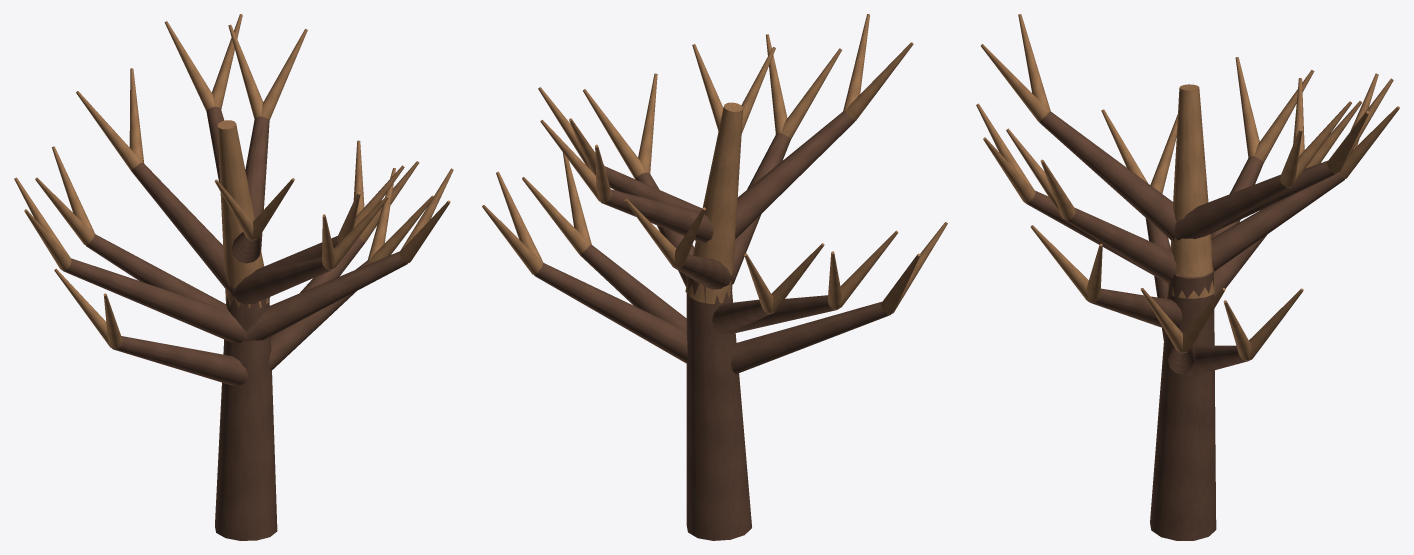
File: DeadTree.glb
The picture shows the model from 3 angles, left to right: view 1: azimuth 30°, elevation 25°; view 2: azimuth 150°, elevation 25°; view 3: azimuth 270°, elevation 25°; orthographic projection. The views are drawn at different scales.
Parts seen in each view (by area): view 1: Trunk, Bough.009, Leader, Bough.005, Bough.004, Bough.006, Bough.001, Bough.002, Bough.003, Bough, Twig.013, Twig.006 (+23 smaller); view 2: Trunk, Leader, Bough.008, Bough.004, Bough.007, Bough, Bough.011, Bough.002, Bough.009, Bough.001, Bough.003, Bough.006 (+23 smaller); view 3: Trunk, Leader, Bough.007, Bough.006, Bough.003, Bough.010, Bough.005, Bough.008, Bough.011, Twig.015, Twig.018, Twig.019 (+24 smaller).
Part boxes in pixels (box(x1,y1,x2,y2)): Trunk: box(215, 296, 277, 540); Bough.009: box(63, 258, 247, 342); Leader: box(217, 120, 269, 308); Bough.005: box(245, 251, 407, 341); Bough.004: box(112, 336, 248, 386); Bough.006: box(131, 162, 235, 299); Bough.001: box(86, 234, 228, 310); Bough.002: box(233, 257, 333, 304); Bough.003: box(245, 116, 269, 249); Bough: box(269, 260, 371, 369); Twig.013: box(76, 91, 140, 170); Twig.006: box(261, 29, 307, 119); Trunk: box(686, 276, 751, 540); Leader: box(685, 102, 743, 303); Bough.008: box(534, 263, 687, 363); Bough.004: box(730, 301, 890, 374); Bough.007: box(735, 111, 854, 238); Bough: box(580, 244, 686, 331); Bough.011: box(601, 189, 713, 242); Bough.002: box(733, 133, 790, 283); Bough.009: box(728, 295, 839, 333); Bough.001: box(712, 299, 774, 333); Bough.003: box(605, 166, 702, 211); Bough.006: box(673, 255, 734, 289); Trunk: box(1150, 268, 1216, 540); Leader: box(1168, 84, 1215, 298); Bough.007: box(1039, 111, 1176, 240); Bough.006: box(1211, 173, 1344, 271); Bough.003: box(1173, 174, 1291, 240); Bough.010: box(1064, 207, 1176, 283); Bough.005: box(1088, 288, 1182, 327); Bough.008: box(1185, 345, 1251, 375); Bough.011: box(1203, 160, 1337, 236); Twig.015: box(981, 44, 1048, 121); Twig.018: box(1254, 70, 1314, 162); Twig.019: box(1235, 57, 1259, 157).
Bounding box in the file's own units: 3.81 × 4.05 × 3.39.
2 materials, 2 textured.
